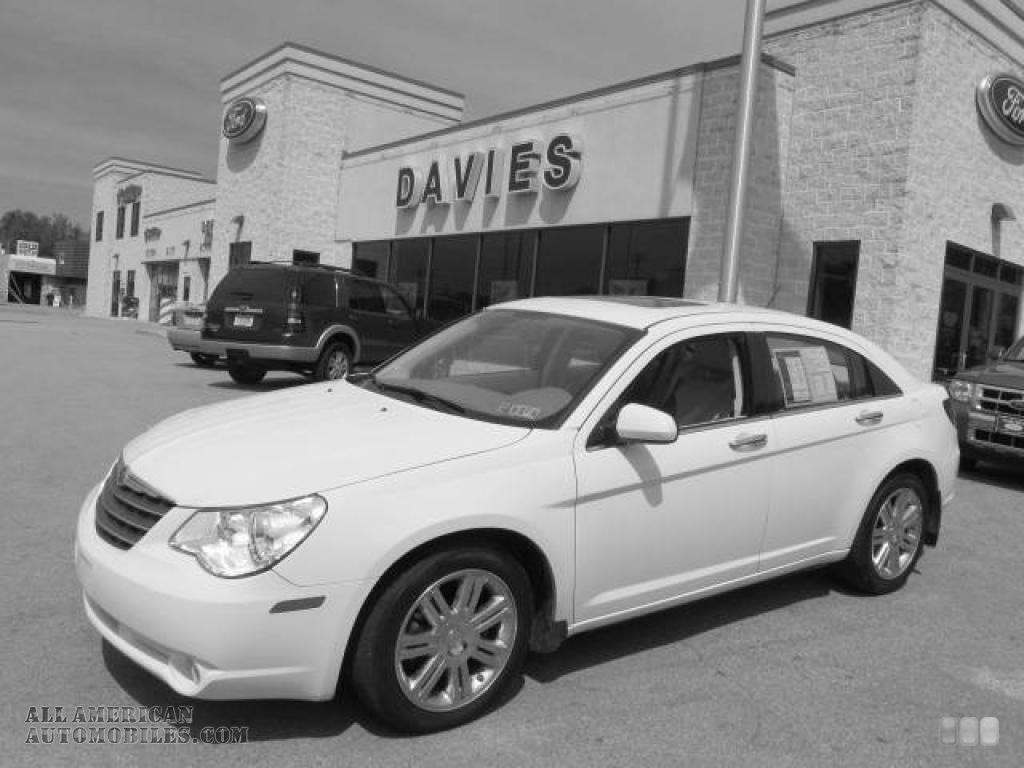car: (72, 293, 951, 734)
